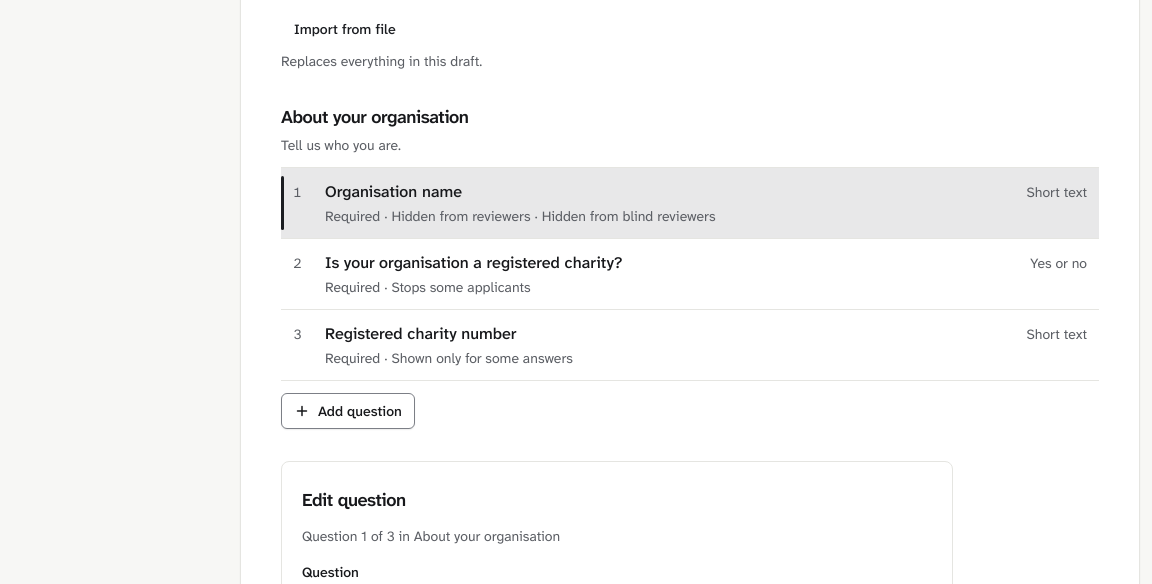
Test: the problems of a draft › include the rules between questions, such as a condition that reads a later question
(page scrolled)
Step 1. Click the 6th button → (474, 262), box [281, 239, 1099, 309]
(page scrolled)
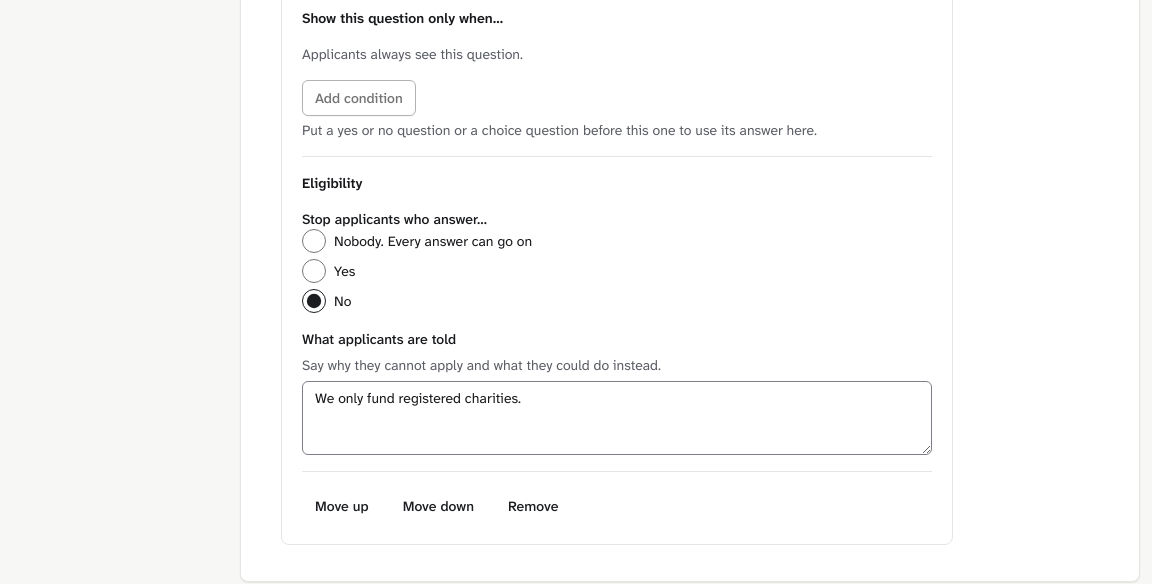
Step 2. Click the button "Move down" → (438, 506), box [390, 488, 487, 524]
(page scrolled)
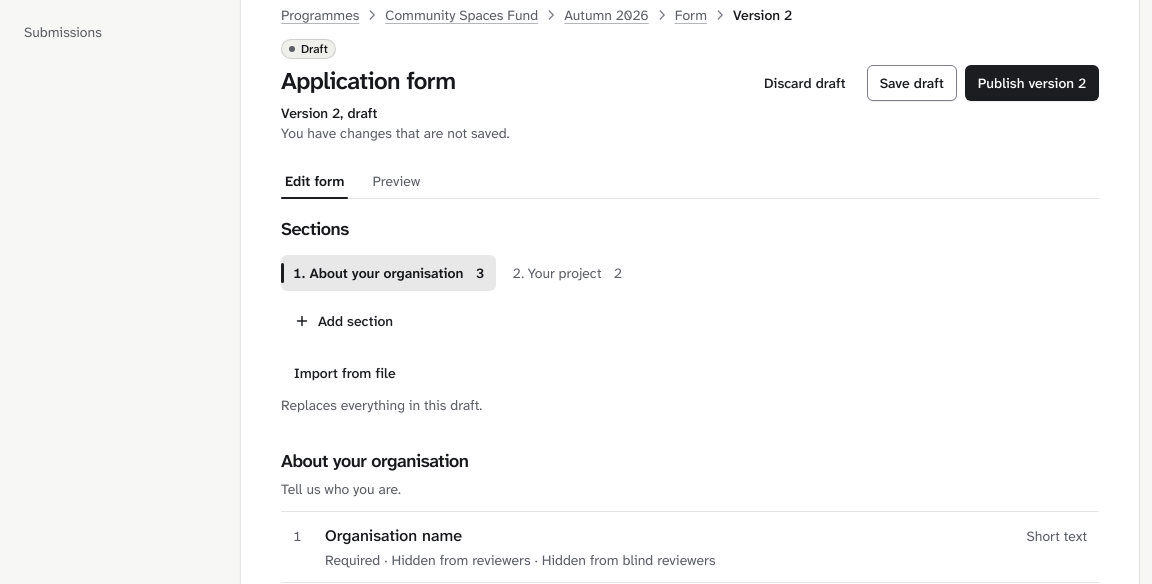
Step 3. Click the button "Save draft" → (912, 83), box [867, 65, 957, 101]
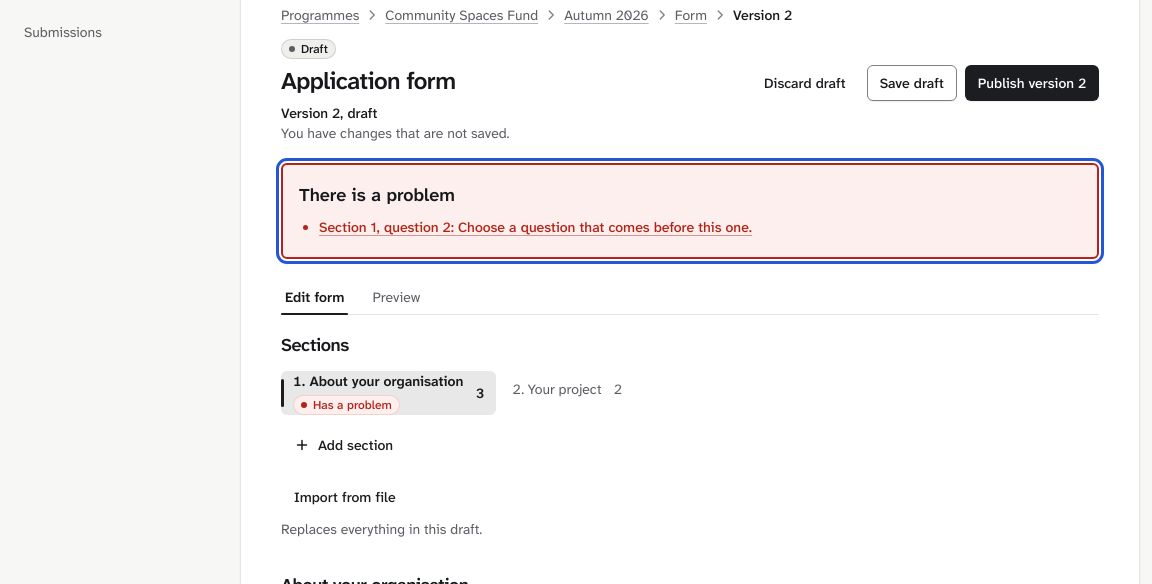
Check: the message "There is a problem" shows "Section 1, question 2: Choose a question that comes before this one.", box [319, 217, 1081, 241]
